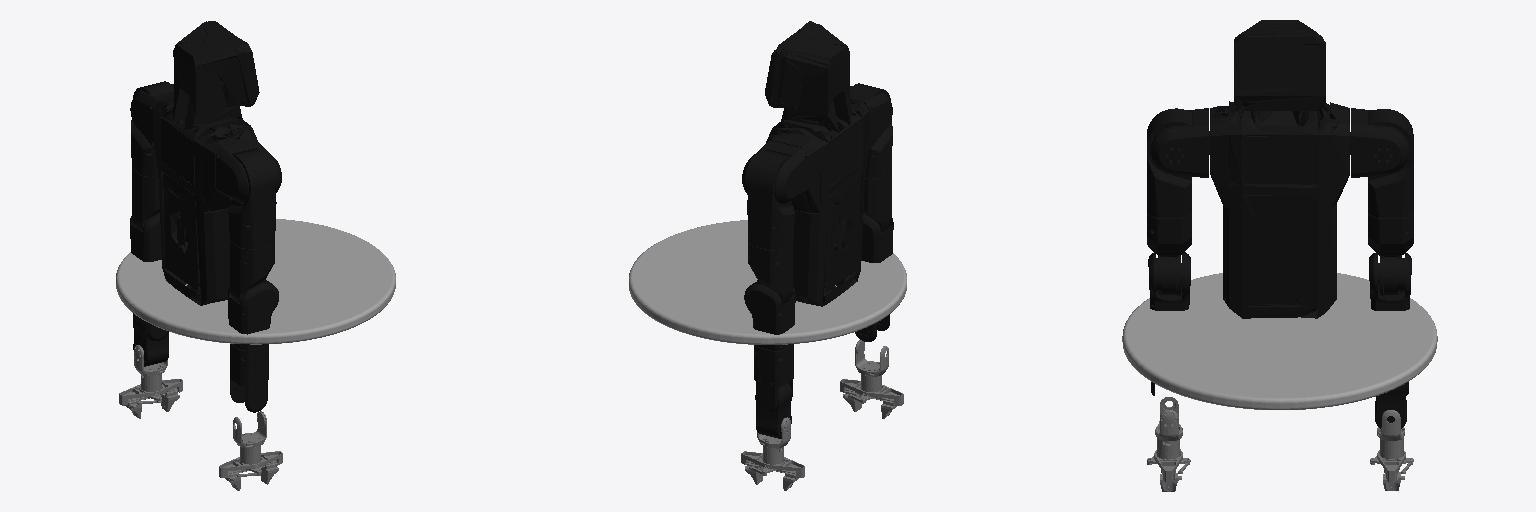
The robot description file, URDF, robot "assy_forurdf_legless7dof":
<?xml version="1.0" ?>
<robot name="assy_forurdf_legless7dof">
  <link name="base">
    <visual name="base_visual">
      <geometry name="base_geometry">
        <sphere radius="0.01"/>
      </geometry>
      <material name="base_material">
        <color rgba="1 0 0 1"/>
      </material>
      <origin xyz="0 -0.095 0" rpy="0 0 1.5708"/>
    </visual>
    <inertial name="base_inertial">
      <mass value="0.001"/>
      <inertia ixx="0.000001" iyy="0.000001" izz="0.000001" ixy="0" ixz="0" iyz="0"/>
      <origin xyz="0 -0.095 0" rpy="0 0 1.5708"/>
    </inertial>
  </link>
  <joint name="base_joint" type="fixed">
    <parent link="base"/>
    <child link="KD_B_103R_TORSO_RIGHT"/>
    <origin xyz="0 -0.095 0" rpy="0 0 1.5708"/>
  </joint>
  <joint name="Baseboard" type="fixed">
    <origin xyz="0.045715 0.036628 -0.230312" rpy="0 0 0"/>
    <parent link="KD_B_103R_TORSO_RIGHT"/>
    <child link="woodenBase"/>
  </joint>
  <joint name="dof_right_shoulder_pitch_03" type="revolute">
    <origin xyz="-0.028285 -0.000372 0.117188" rpy="0 -1.570796 0"/>
    <parent link="KD_B_103R_TORSO_RIGHT"/>
    <child link="KC_C_101R_ShldYokeDrive"/>
    <limit effort="60" velocity="18.849" lower="-3.490658" upper="1.047198"/>
    <axis xyz="0 0 -1"/>
  </joint>
  <joint name="frame_imu_site" type="fixed">
    <origin xyz="0.078954 -0.025342 0.175076" rpy="0.011111 0 0"/>
    <parent link="KD_B_103R_TORSO_RIGHT"/>
    <child link="imu"/>
  </joint>
  <joint name="dof_right_shoulder_roll_03" type="revolute">
    <origin xyz="0 -0.024250 0.080000" rpy="1.570796 1.570796 0"/>
    <parent link="KC_C_101R_ShldYokeDrive"/>
    <child link="RS03_2"/>
    <limit effort="60" velocity="18.849" lower="-1.658063" upper="0.436332"/>
    <axis xyz="0 0 1"/>
  </joint>
  <joint name="dof_left_shoulder_pitch_03" type="revolute">
    <origin xyz="0.214215 -0.000372 0.117188" rpy="0 1.570796 0"/>
    <parent link="KD_B_103R_TORSO_RIGHT"/>
    <child link="KD_C_101L_ShldYokeDrive"/>
    <limit effort="60" velocity="18.849" lower="-1.047198" upper="3.490658"/>
    <axis xyz="0 0 -1"/>
  </joint>
  <joint name="dof_left_shoulder_roll_03" type="revolute">
    <origin xyz="0 -0.024250 0.080000" rpy="1.570796 -1.570796 0"/>
    <parent link="KD_C_101L_ShldYokeDrive"/>
    <child link="RS03_4"/>
    <limit effort="60" velocity="18.849" lower="-0.436332" upper="1.658063"/>
    <axis xyz="0 0 1"/>
  </joint>
  <joint name="dof_right_shoulder_yaw_02" type="revolute">
    <origin xyz="-0.013000 -0.142500 -0.031670" rpy="-1.570796 0 0"/>
    <parent link="RS03_2"/>
    <child link="KC_C_202R"/>
    <limit effort="17" velocity="37.699" lower="-1.671886" upper="1.671886"/>
    <axis xyz="0 0 1"/>
  </joint>
  <joint name="dof_right_elbow_02" type="revolute">
    <origin xyz="0.019000 -0.010000 -0.137000" rpy="-1.570796 0 1.570796"/>
    <parent link="KC_C_202R"/>
    <child link="KC_C_401R_R_UpForearmDrive"/>
    <limit effort="17" velocity="37.699" lower="0" upper="2.478368"/>
    <axis xyz="0 0 1"/>
  </joint>
  <joint name="dof_left_shoulder_yaw_02" type="revolute">
    <origin xyz="0.013000 -0.142500 -0.030750" rpy="-1.570796 0 0"/>
    <parent link="RS03_4"/>
    <child link="KD_C_301L_LowerBicepDrive"/>
    <limit effort="17" velocity="37.699" lower="-1.671886" upper="1.671886"/>
    <axis xyz="0 0 1"/>
  </joint>
  <joint name="dof_right_wrist_00" type="revolute">
    <origin xyz="0.017350 0.103000 0.018000" rpy="-1.570796 1.570796 0"/>
    <parent link="KC_C_401R_R_UpForearmDrive"/>
    <child link="PRT0001"/>
    <limit effort="14" velocity="27.227" lower="-1.378810" upper="1.378810"/>
    <axis xyz="0 0 -1"/>
  </joint>
  <joint name="dof_left_elbow_02" type="revolute">
    <origin xyz="-0.019000 -0.010000 -0.137000" rpy="1.570796 0 1.570796"/>
    <parent link="KD_C_301L_LowerBicepDrive"/>
    <child link="KC_C_401L_Up_Forearm_Drive"/>
    <limit effort="17" velocity="37.699" lower="-2.478368" upper="0"/>
    <axis xyz="0 0 1"/>
  </joint>
  <joint name="dof_left_wrist_00" type="revolute">
    <origin xyz="0.017350 -0.103000 0.018000" rpy="1.570796 -1.570796 0"/>
    <parent link="KC_C_401L_Up_Forearm_Drive"/>
    <child link="PRT0001_2"/>
    <limit effort="14" velocity="27.227" lower="-1.378810" upper="1.378810"/>
    <axis xyz="0 0 -1"/>
  </joint>
  <joint name="dof_right_wrist_pitch_00" type="revolute">
    <origin xyz="0.025473 0 0.132400" rpy="1.570796 0 1.570796"/>
    <parent link="PRT0001"/>
    <child link="RS00_3"/>
    <limit effort="14" velocity="27.227" lower="-1.745329" upper="1.745329"/>
    <axis xyz="0 0 1"/>
  </joint>
  <joint name="dof_left_wrist_pitch_00" type="revolute">
    <origin xyz="-0.025473 0 0.132400" rpy="1.570796 0 -1.570796"/>
    <parent link="PRT0001_2"/>
    <child link="RS00_5"/>
    <limit effort="14" velocity="27.227" lower="-1.745329" upper="1.745329"/>
    <axis xyz="0 0 1"/>
  </joint>
  <joint name="dof_right_wrist_roll_00" type="revolute">
    <origin xyz="0.027200 0.065000 -0.026800" rpy="3.141593 1.570796 0"/>
    <parent link="RS00_3"/>
    <child link="pitch_yoke_drive"/>
    <limit effort="14" velocity="27.227" lower="-1.745329" upper="1.745329"/>
    <axis xyz="0 0 1"/>
  </joint>
  <joint name="dof_left_wrist_roll_00" type="revolute">
    <origin xyz="0.027200 0.065000 -0.026800" rpy="3.141593 1.570796 0"/>
    <parent link="RS00_5"/>
    <child link="pitch_yoke_drive_2"/>
    <limit effort="14" velocity="27.227" lower="-1.745329" upper="1.745329"/>
    <axis xyz="0 0 1"/>
  </joint>
  <link name="KD_B_103R_TORSO_RIGHT">
    <visual name="KD_B_103R_TORSO_RIGHT_visual">
      <origin xyz="0 0 0" rpy="0 0 0"/>
      <geometry name="KD_B_103R_TORSO_RIGHT_geometry">
        <mesh filename="meshes/KD_B_103R_TORSO_RIGHT.stl"/>
      </geometry>
      <material name="KD_B_103R_TORSO_RIGHT_material">
        <color rgba="0.121569 0.121569 0.121569 1"/>
      </material>
    </visual>
    <inertial name="KD_B_103R_TORSO_RIGHT_inertial">
      <mass value="9.775955"/>
      <inertia ixx="0.249032" iyy="0.277947" izz="0.055027" ixy="-0.000003" ixz="0.000035" iyz="0.015048"/>
      <origin xyz="0.092680 -0.002787 0.030677" rpy="0 0 0"/>
    </inertial>
  </link>
  <link name="woodenBase">
    <visual name="woodenBase_visual">
      <origin xyz="0 0 0" rpy="0 0 0"/>
      <geometry name="woodenBase_geometry">
        <mesh filename="meshes/woodenBase.stl"/>
      </geometry>
      <material name="woodenBase_material">
        <color rgba="0.647059 0.647059 0.647059 1"/>
      </material>
    </visual>
    <inertial name="woodenBase_inertial">
      <mass value="5.147469"/>
      <inertia ixx="0.119030" iyy="0.119115" izz="0.237596" ixy="0" ixz="0" iyz="0"/>
      <origin xyz="0.047000 -0.161927 -0.012700" rpy="0 0 0"/>
    </inertial>
  </link>
  <link name="KC_C_101R_ShldYokeDrive">
    <visual name="KC_C_101R_ShldYokeDrive_visual">
      <origin xyz="0 0 0" rpy="0 0 0"/>
      <geometry name="KC_C_101R_ShldYokeDrive_geometry">
        <mesh filename="meshes/KC_C_101R_ShldYokeDrive.stl"/>
      </geometry>
      <material name="KC_C_101R_ShldYokeDrive_material">
        <color rgba="0.121569 0.121569 0.121569 1"/>
      </material>
    </visual>
    <inertial name="KC_C_101R_ShldYokeDrive_inertial">
      <mass value="0.569870"/>
      <inertia ixx="0.001409" iyy="0.001159" izz="0.001309" ixy="0" ixz="0.000001" iyz="0.000162"/>
      <origin xyz="0.003158 -0.007737 0.047375" rpy="0 0 0"/>
    </inertial>
  </link>
  <link name="imu">
    <visual name="imu_visual">
      <origin xyz="0 0 0" rpy="0 0 0"/>
      <geometry name="imu_geometry">
        <mesh filename="meshes/imu.stl"/>
      </geometry>
      <material name="imu_material">
        <color rgba="0.121569 0.121569 0.121569 1"/>
      </material>
    </visual>
    <inertial name="imu_inertial">
      <mass value="0.005700"/>
      <inertia ixx="0.000001" iyy="0.000001" izz="0.000002" ixy="0" ixz="0" iyz="0"/>
      <origin xyz="0.014706 0.012343 0.002999" rpy="0 0 0"/>
    </inertial>
  </link>
  <link name="RS03_2">
    <visual name="RS03_visual_2">
      <origin xyz="0 0 0" rpy="0 0 0"/>
      <geometry name="RS03_geometry_2">
        <mesh filename="meshes/RS03_2.stl"/>
      </geometry>
      <material name="RS03_material_2">
        <color rgba="0.121569 0.121569 0.121569 1"/>
      </material>
    </visual>
    <inertial name="RS03_inertial_2">
      <mass value="1.789232"/>
      <inertia ixx="0.007176" iyy="0.001972" izz="0.007602" ixy="-0.000597" ixz="-0.000001" iyz="-0.000081"/>
      <origin xyz="-0.004909 -0.041175 -0.029409" rpy="0 0 0"/>
    </inertial>
  </link>
  <link name="KD_C_101L_ShldYokeDrive">
    <visual name="KD_C_101L_ShldYokeDrive_visual">
      <origin xyz="0 0 0" rpy="0 0 0"/>
      <geometry name="KD_C_101L_ShldYokeDrive_geometry">
        <mesh filename="meshes/KD_C_101L_ShldYokeDrive.stl"/>
      </geometry>
      <material name="KD_C_101L_ShldYokeDrive_material">
        <color rgba="0.121569 0.121569 0.121569 1"/>
      </material>
    </visual>
    <inertial name="KD_C_101L_ShldYokeDrive_inertial">
      <mass value="0.569863"/>
      <inertia ixx="0.001409" iyy="0.001159" izz="0.001309" ixy="0" ixz="-0.000001" iyz="0.000162"/>
      <origin xyz="-0.003158 -0.007737 0.047374" rpy="0 0 0"/>
    </inertial>
  </link>
  <link name="RS03_4">
    <visual name="RS03_visual_4">
      <origin xyz="0 0 0" rpy="0 0 0"/>
      <geometry name="RS03_geometry_4">
        <mesh filename="meshes/RS03_4.stl"/>
      </geometry>
      <material name="RS03_material_4">
        <color rgba="0.121569 0.121569 0.121569 1"/>
      </material>
    </visual>
    <inertial name="RS03_inertial_4">
      <mass value="1.789190"/>
      <inertia ixx="0.007175" iyy="0.001972" izz="0.007602" ixy="0.000599" ixz="0.000012" iyz="-0.000104"/>
      <origin xyz="0.004876 -0.041173 -0.029352" rpy="0 0 0"/>
    </inertial>
  </link>
  <link name="KC_C_202R">
    <visual name="KC_C_202R_visual">
      <origin xyz="0 0 0" rpy="0 0 0"/>
      <geometry name="KC_C_202R_geometry">
        <mesh filename="meshes/KC_C_202R.stl"/>
      </geometry>
      <material name="KC_C_202R_material">
        <color rgba="0.121569 0.121569 0.121569 1"/>
      </material>
    </visual>
    <inertial name="KC_C_202R_inertial">
      <mass value="0.753224"/>
      <inertia ixx="0.002457" iyy="0.002305" izz="0.000727" ixy="-0.000034" ixz="-0.000250" iyz="-0.000139"/>
      <origin xyz="0.003135 -0.003955 -0.099599" rpy="0 0 0"/>
    </inertial>
  </link>
  <link name="KC_C_401R_R_UpForearmDrive">
    <visual name="KC_C_401R_R_UpForearmDrive_visual">
      <origin xyz="0 0 0" rpy="0 0 0"/>
      <geometry name="KC_C_401R_R_UpForearmDrive_geometry">
        <mesh filename="meshes/KC_C_401R_R_UpForearmDrive.stl"/>
      </geometry>
      <material name="KC_C_401R_R_UpForearmDrive_material">
        <color rgba="0.121569 0.121569 0.121569 1"/>
      </material>
    </visual>
    <inertial name="KC_C_401R_R_UpForearmDrive_inertial">
      <mass value="0.641859"/>
      <inertia ixx="0.001302" iyy="0.000701" izz="0.001278" ixy="-0.000051" ixz="-0.000010" iyz="-0.000045"/>
      <origin xyz="0.015853 0.061198 0.015613" rpy="0 0 0"/>
    </inertial>
  </link>
  <link name="KD_C_301L_LowerBicepDrive">
    <visual name="KD_C_301L_LowerBicepDrive_visual">
      <origin xyz="0 0 0" rpy="0 0 0"/>
      <geometry name="KD_C_301L_LowerBicepDrive_geometry">
        <mesh filename="meshes/KD_C_301L_LowerBicepDrive.stl"/>
      </geometry>
      <material name="KD_C_301L_LowerBicepDrive_material">
        <color rgba="0.121569 0.121569 0.121569 1"/>
      </material>
    </visual>
    <inertial name="KD_C_301L_LowerBicepDrive_inertial">
      <mass value="0.866827"/>
      <inertia ixx="0.002953" iyy="0.002777" izz="0.000923" ixy="0.000016" ixz="0.000145" iyz="-0.000150"/>
      <origin xyz="0.000333 -0.002948 -0.095705" rpy="0 0 0"/>
    </inertial>
  </link>
  <link name="PRT0001">
    <visual name="PRT0001_visual">
      <origin xyz="0 0 0" rpy="0 0 0"/>
      <geometry name="PRT0001_geometry">
        <mesh filename="meshes/PRT0001.stl"/>
      </geometry>
      <material name="PRT0001_material">
        <color rgba="0.121569 0.121569 0.121569 1"/>
      </material>
    </visual>
    <inertial name="PRT0001_inertial">
      <mass value="0.806066"/>
      <inertia ixx="0.001243" iyy="0.001296" izz="0.000740" ixy="0" ixz="0.000052" iyz="0"/>
      <origin xyz="-0.000649 0.000020 0.050775" rpy="0 0 0"/>
    </inertial>
  </link>
  <link name="KC_C_401L_Up_Forearm_Drive">
    <visual name="KC_C_401L_Up_Forearm_Drive_visual">
      <origin xyz="0 0 0" rpy="0 0 0"/>
      <geometry name="KC_C_401L_Up_Forearm_Drive_geometry">
        <mesh filename="meshes/KC_C_401L_Up_Forearm_Drive.stl"/>
      </geometry>
      <material name="KC_C_401L_Up_Forearm_Drive_material">
        <color rgba="0.121569 0.121569 0.121569 1"/>
      </material>
    </visual>
    <inertial name="KC_C_401L_Up_Forearm_Drive_inertial">
      <mass value="0.641873"/>
      <inertia ixx="0.001303" iyy="0.000701" izz="0.001278" ixy="0.000051" ixz="-0.000010" iyz="0.000048"/>
      <origin xyz="0.015853 -0.061197 0.015921" rpy="0 0 0"/>
    </inertial>
  </link>
  <link name="PRT0001_2">
    <visual name="PRT0001_visual_2">
      <origin xyz="0 0 0" rpy="0 0 0"/>
      <geometry name="PRT0001_geometry_2">
        <mesh filename="meshes/PRT0001_2.stl"/>
      </geometry>
      <material name="PRT0001_material_2">
        <color rgba="0.121569 0.121569 0.121569 1"/>
      </material>
    </visual>
    <inertial name="PRT0001_inertial_2">
      <mass value="0.806066"/>
      <inertia ixx="0.001243" iyy="0.001296" izz="0.000740" ixy="0" ixz="-0.000052" iyz="0"/>
      <origin xyz="0.000649 -0.000020 0.050775" rpy="0 0 0"/>
    </inertial>
  </link>
  <link name="RS00_3">
    <visual name="RS00_visual_3">
      <origin xyz="0 0 0" rpy="0 0 0"/>
      <geometry name="RS00_geometry_3">
        <mesh filename="meshes/RS00_3.stl"/>
      </geometry>
      <material name="RS00_material_3">
        <color rgba="0.121569 0.121569 0.121569 1"/>
      </material>
    </visual>
    <collision name="RS00.collision_3">
      <origin xyz="0 0 0" rpy="0 0 0"/>
      <geometry name="RS00_collision_geometry_3">
        <mesh filename="meshes/RS00_3.collision.stl"/>
      </geometry>
    </collision>
    <inertial name="RS00_inertial_3">
      <mass value="0.710863"/>
      <inertia ixx="0.001197" iyy="0.000452" izz="0.001196" ixy="-0.000023" ixz="0" iyz="0.000036"/>
      <origin xyz="0.001230 0.032573 -0.025548" rpy="0 0 0"/>
    </inertial>
  </link>
  <link name="RS00_5">
    <visual name="RS00_visual_5">
      <origin xyz="0 0 0" rpy="0 0 0"/>
      <geometry name="RS00_geometry_5">
        <mesh filename="meshes/RS00_5.stl"/>
      </geometry>
      <material name="RS00_material_5">
        <color rgba="0.121569 0.121569 0.121569 1"/>
      </material>
    </visual>
    <collision name="RS00.collision_5">
      <origin xyz="0 0 0" rpy="0 0 0"/>
      <geometry name="RS00_collision_geometry_5">
        <mesh filename="meshes/RS00_5.collision.stl"/>
      </geometry>
    </collision>
    <inertial name="RS00_inertial_5">
      <mass value="0.710863"/>
      <inertia ixx="0.001197" iyy="0.000452" izz="0.001196" ixy="-0.000023" ixz="0" iyz="0.000036"/>
      <origin xyz="0.001230 0.032573 -0.025548" rpy="0 0 0"/>
    </inertial>
  </link>
  <link name="pitch_yoke_drive">
    <visual name="pitch_yoke_drive_visual">
      <origin xyz="0 0 0" rpy="0 0 0"/>
      <geometry name="pitch_yoke_drive_geometry">
        <mesh filename="meshes/pitch_yoke_drive.stl"/>
      </geometry>
      <material name="pitch_yoke_drive_material">
        <color rgba="0.498039 0.498039 0.498039 1"/>
      </material>
    </visual>
    <collision name="pitch_yoke_drive.collision">
      <origin xyz="0 0 0" rpy="0 0 0"/>
      <geometry name="pitch_yoke_drive_collision_geometry">
        <mesh filename="meshes/pitch_yoke_drive.collision.stl"/>
      </geometry>
    </collision>
    <inertial name="pitch_yoke_drive_inertial">
      <mass value="0.544256"/>
      <inertia ixx="0.001085" iyy="0.000663" izz="0.000579" ixy="0.000004" ixz="-0.000009" iyz="0.000013"/>
      <origin xyz="0.000936 -0.088012 0.024971" rpy="0 0 0"/>
    </inertial>
  </link>
  <link name="pitch_yoke_drive_2">
    <visual name="pitch_yoke_drive_visual_2">
      <origin xyz="0 0 0" rpy="0 0 0"/>
      <geometry name="pitch_yoke_drive_geometry_2">
        <mesh filename="meshes/pitch_yoke_drive_2.stl"/>
      </geometry>
      <material name="pitch_yoke_drive_material_2">
        <color rgba="0.498039 0.498039 0.498039 1"/>
      </material>
    </visual>
    <collision name="pitch_yoke_drive.collision_2">
      <origin xyz="0 0 0" rpy="0 0 0"/>
      <geometry name="pitch_yoke_drive_collision_geometry_2">
        <mesh filename="meshes/pitch_yoke_drive_2.collision.stl"/>
      </geometry>
    </collision>
    <inertial name="pitch_yoke_drive_inertial_2">
      <mass value="0.544256"/>
      <inertia ixx="0.001086" iyy="0.000664" izz="0.000579" ixy="0.000005" ixz="-0.000010" iyz="0.000022"/>
      <origin xyz="0.001135 -0.088012 0.027038" rpy="0 0 0"/>
    </inertial>
  </link>
</robot>

--- Render facts (derived) ---
The picture shows the robot from 3 angles, left to right: view 1: azimuth 30°, elevation 25°; view 2: azimuth 150°, elevation 25°; view 3: azimuth 270°, elevation 25°; orthographic projection.
Robot: assy_forurdf_legless7dof — 18 links, 17 joints (14 revolute, 3 fixed); root link base; default pose: all joints at 0.
Visible links, largest first — view 1: KD_B_103R_TORSO_RIGHT, woodenBase, RS03_2, pitch_yoke_drive, PRT0001, pitch_yoke_drive_2, KC_C_401R_R_UpForearmDrive, KC_C_101R_ShldYokeDrive, KC_C_202R, RS03_4, KD_C_301L_LowerBicepDrive, KC_C_401L_Up_Forearm_Drive (+2 smaller); view 2: KD_B_103R_TORSO_RIGHT, woodenBase, RS03_4, pitch_yoke_drive, PRT0001_2, KC_C_401L_Up_Forearm_Drive, pitch_yoke_drive_2, KD_C_101L_ShldYokeDrive, KD_C_301L_LowerBicepDrive, RS03_2, KC_C_202R, KC_C_401R_R_UpForearmDrive (+2 smaller); view 3: KD_B_103R_TORSO_RIGHT, woodenBase, RS03_4, KD_C_101L_ShldYokeDrive, KC_C_101R_ShldYokeDrive, RS03_2, KD_C_301L_LowerBicepDrive, KC_C_202R, pitch_yoke_drive, pitch_yoke_drive_2, KC_C_401R_R_UpForearmDrive, KC_C_401L_Up_Forearm_Drive (+1 smaller).
Boxes of the visible links, box(x1,y1,x2,y2) form: KD_B_103R_TORSO_RIGHT: box(153, 21, 259, 305); woodenBase: box(116, 219, 395, 344); RS03_2: box(228, 149, 276, 248); pitch_yoke_drive: box(219, 411, 282, 490); PRT0001: box(230, 344, 268, 412); pitch_yoke_drive_2: box(119, 345, 182, 418); KC_C_401R_R_UpForearmDrive: box(228, 283, 278, 350); KC_C_101R_ShldYokeDrive: box(216, 139, 281, 202); KC_C_202R: box(230, 241, 274, 303); RS03_4: box(131, 81, 173, 176); KD_C_301L_LowerBicepDrive: box(132, 169, 159, 230); KC_C_401L_Up_Forearm_Drive: box(130, 213, 161, 261); KD_B_103R_TORSO_RIGHT: box(765, 21, 869, 306); woodenBase: box(629, 220, 906, 344); RS03_4: box(747, 151, 794, 249); pitch_yoke_drive: box(840, 340, 903, 418); PRT0001_2: box(754, 344, 793, 412); KC_C_401L_Up_Forearm_Drive: box(744, 284, 795, 350); pitch_yoke_drive_2: box(741, 417, 804, 490); KD_C_101L_ShldYokeDrive: box(742, 140, 807, 203); KD_C_301L_LowerBicepDrive: box(748, 241, 792, 304); RS03_2: box(850, 83, 892, 178); KC_C_202R: box(864, 170, 891, 231); KC_C_401R_R_UpForearmDrive: box(861, 214, 893, 262); KD_B_103R_TORSO_RIGHT: box(1210, 20, 1349, 318); woodenBase: box(1122, 273, 1437, 409); RS03_4: box(1368, 109, 1413, 217); KD_C_101L_ShldYokeDrive: box(1350, 108, 1409, 177); KC_C_101R_ShldYokeDrive: box(1151, 108, 1209, 177); RS03_2: box(1147, 108, 1191, 217); KD_C_301L_LowerBicepDrive: box(1368, 214, 1413, 295); KC_C_202R: box(1147, 214, 1191, 295); pitch_yoke_drive: box(1147, 397, 1190, 491); pitch_yoke_drive_2: box(1370, 410, 1413, 490); KC_C_401R_R_UpForearmDrive: box(1148, 252, 1190, 310); KC_C_401L_Up_Forearm_Drive: box(1369, 253, 1411, 310).
Size in the robot's own frame: 0.6096 by 0.6096 by 0.9878 metres.
Meshes: 17 distinct files referenced, 16 mesh visuals loaded (16 binary STL); not drawn: 1 (reference not matched to a file when rendering).